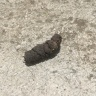Dog: (23, 35, 63, 65)
